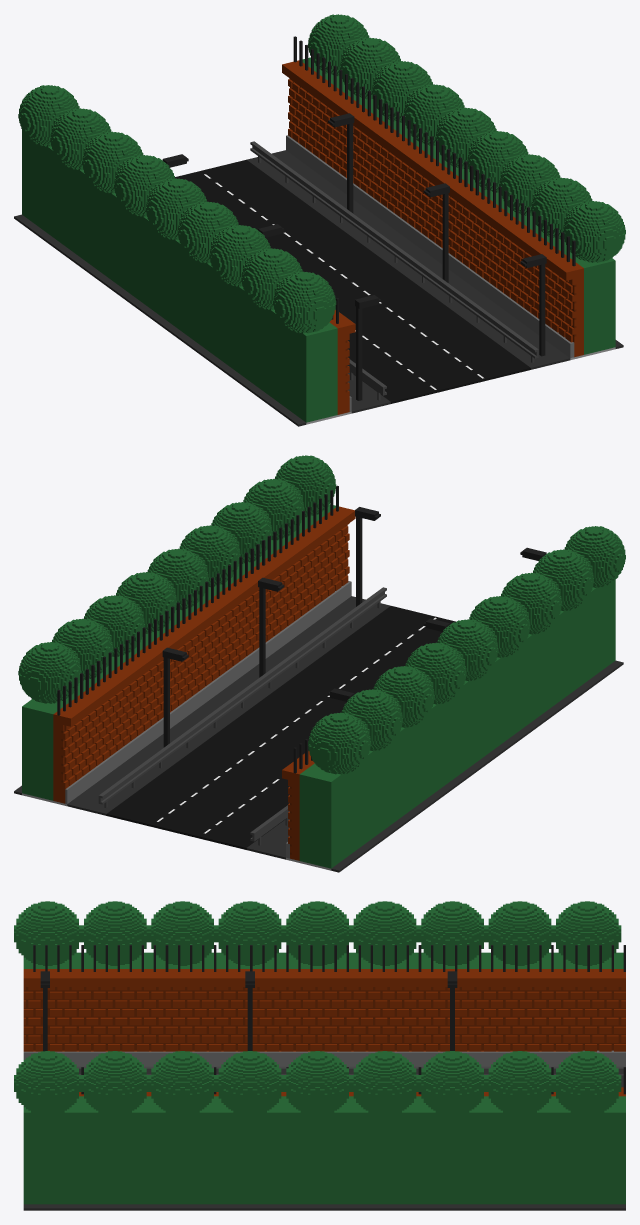
Rendered from Stone fence.obj.
The picture shows the model from 3 angles, top to bottom: view 1: azimuth 30°, elevation 25°; view 2: azimuth 150°, elevation 25°; view 3: azimuth 270°, elevation 25°; orthographic projection. The views are drawn at different scales.
Bounding box in the file's own units: 17.3 × 6.7 × 25.4.
